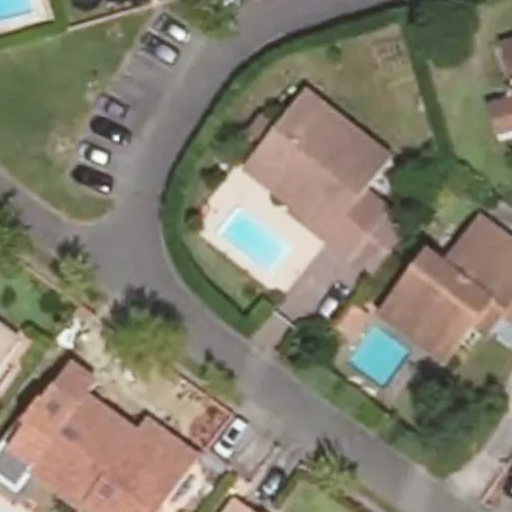pool: (218, 234, 293, 249)
